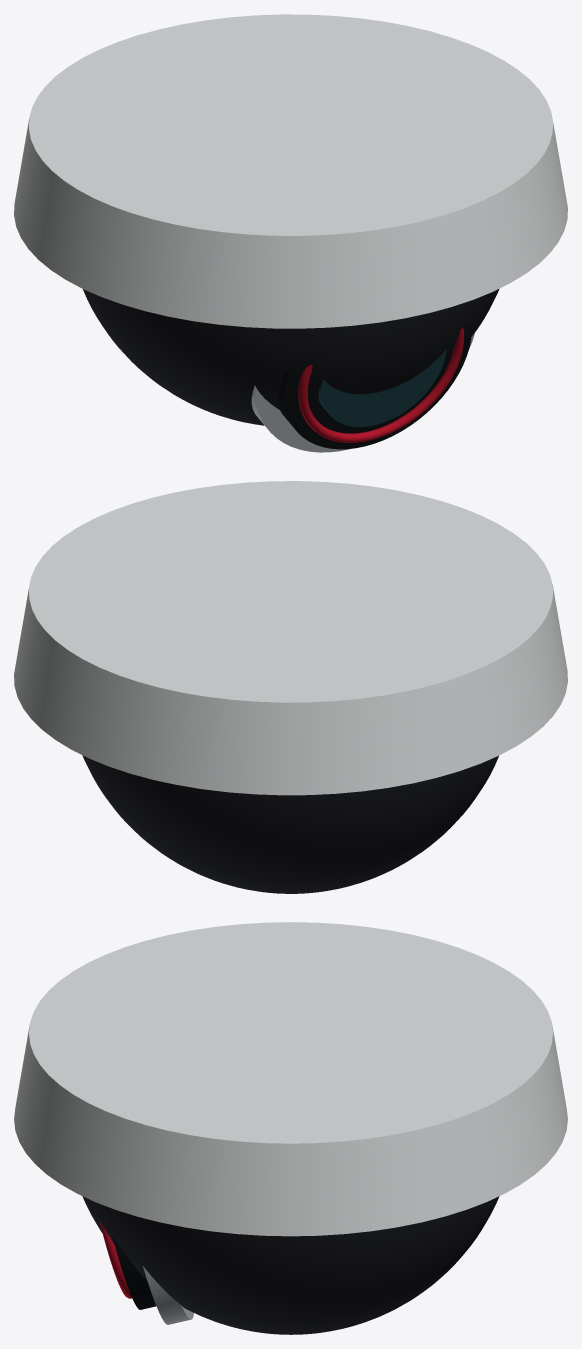
Rendered from dome.glb.
3 views of the same model, one above another, from view 1: azimuth 30°, elevation 25°; view 2: azimuth 150°, elevation 25°; view 3: azimuth 270°, elevation 25° (orthographic).
Visible parts, largest first — view 1: Housing, Lens; view 2: Housing; view 3: Housing, Lens.
Boxes of the visible parts, bbox=[...] form: Housing: bbox=[14, 14, 567, 425]; Lens: bbox=[251, 325, 475, 452]; Housing: bbox=[14, 481, 567, 893]; Housing: bbox=[14, 922, 567, 1334]; Lens: bbox=[99, 1221, 193, 1324].
Bounding box in the file's own units: 1.86 × 1.04 × 1.86.
